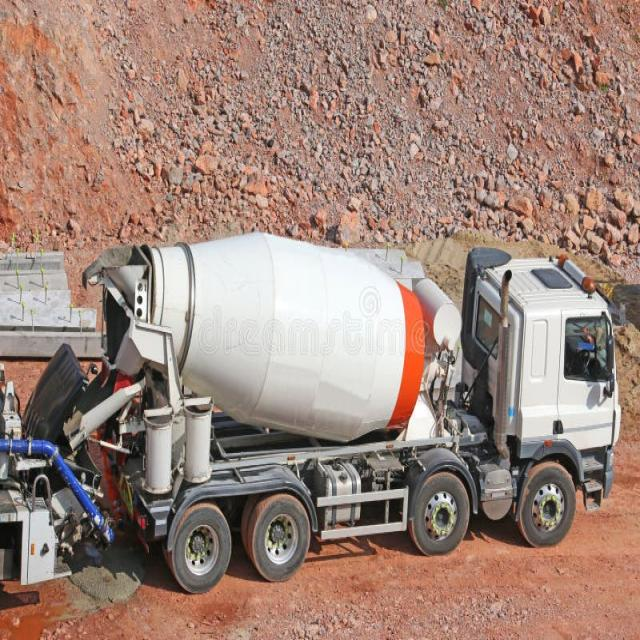truck: (64, 234, 620, 592)
